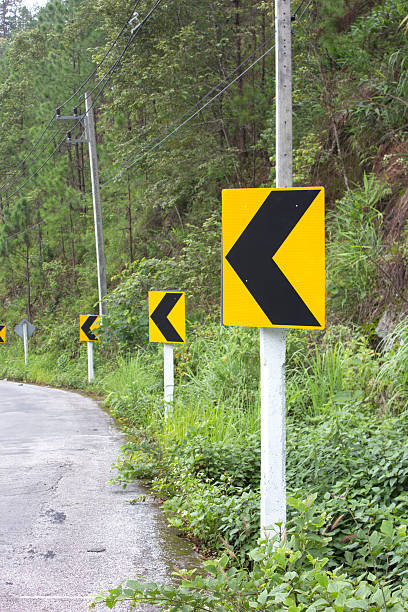left turn: (222, 189, 326, 327), (148, 292, 186, 343), (79, 315, 102, 342), (1, 326, 5, 345)
